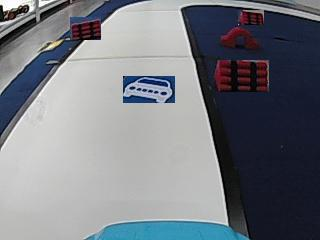bridge: (219, 28, 259, 50)
